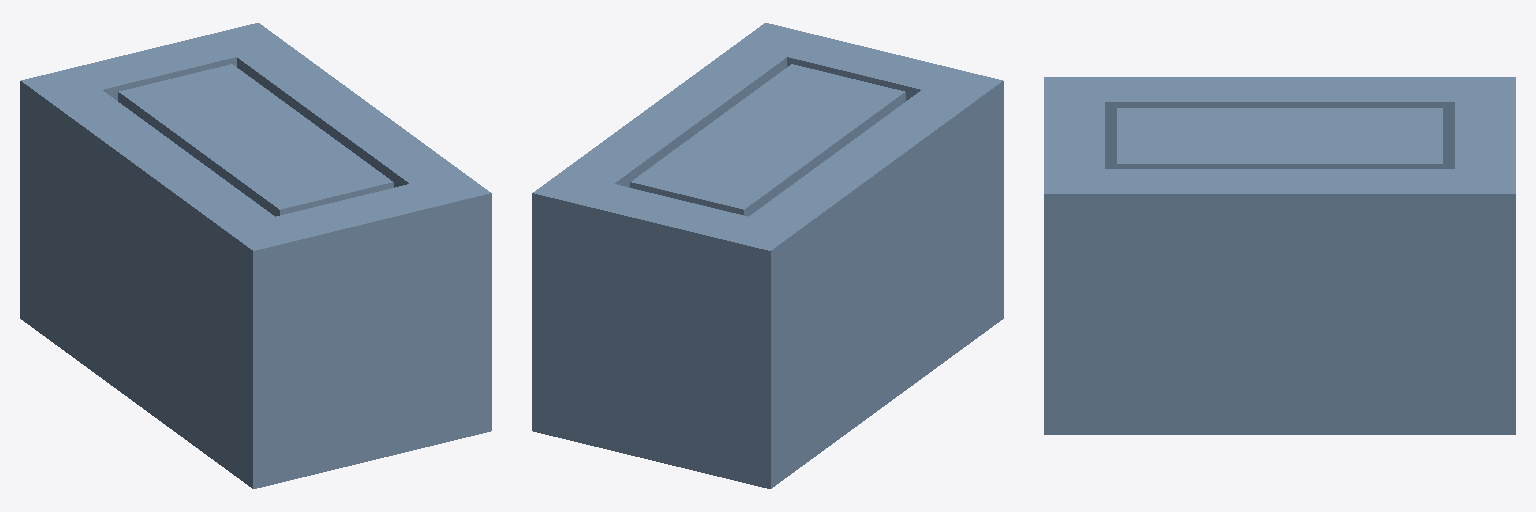
URDF robot description (car_door_fixture):
<?xml version="1.0"?>
<!--
  car_door_fixture - the car-door panel fixture of the reference cell welding_cell_2_small: umarell's model
  of it, the boxes of umarell's cells/welding_cell_2s/config/obstacles.yaml (the container floor, four
  0.25 m walls, four clamp rails on their tops and the inner weld surface panel), 0.10 m lower: every top
  at z = 1.10 m (umarell: 1.20 m), one mesh for visual and collision so the planner's converter can
  voxelise it. Metres, Z up, relative to the fixture origin: its centre on the floor (the scene places it
  at x -0.975, y -1.225). Footprint 1.15 x 1.95 m.
  The cell's 15 weld points (agentic_planner/tasks/car_door_spot_welding.json, z = 1.35 m) sit above the
  panel, as in umarell (welding_cell_2_small/NOTE.md: "A known inconsistency in umarell's data"). Why
  lower: Prepare Cell's voxel shell (0.05 m voxels, faces snapped outward) puts umarell's 1.20 m tops at
  1.25 m, and the planners keep the TCP sphere (tool_link_radius 0.05 m + collision_margin 0.05 m) 0.10 m
  from every box, so a weld 0.10 m above that shell is in collision (umarell_jam: goal_in_collision at
  every weld); at 1.10 m the shell's top is 1.15 m, the welds clear it.
-->
<robot name="car_door_fixture">
  <link name="World">
    <visual>
      <origin xyz="0 0 0" rpy="0 0 0"/>
      <geometry><mesh filename="meshes/car_door_fixture.obj" scale="1 1 1"/></geometry>
      <material name="fixture_steel"><color rgba="0.55 0.65 0.75 1.0"/></material>
    </visual>
    <collision>
      <origin xyz="0 0 0" rpy="0 0 0"/>
      <geometry><mesh filename="meshes/car_door_fixture.obj" scale="1 1 1"/></geometry>
    </collision>
  </link>
</robot>

--- Facts derived from the render (not from the file) ---
3 views of the same robot in one strip: view 1: azimuth 30°, elevation 25°; view 2: azimuth 150°, elevation 25°; view 3: azimuth 270°, elevation 25° (orthographic).
Model car_door_fixture with 1 links and 0 joints (none), rooted at World, posed every joint at zero.
Visible links, largest first — view 1: World; view 2: World; view 3: World.
Boxes of the visible links, box(x1,y1,x2,y2) form: World: box(20, 23, 491, 488); World: box(532, 23, 1003, 488); World: box(1044, 77, 1515, 434).
Size in the robot's own frame: 1.15 by 1.95 by 1.1 metres.
1 mesh visuals loaded from 1 distinct referenced files (1 OBJ).
